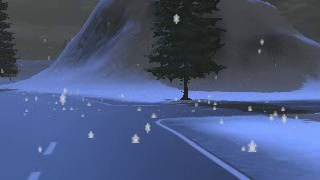Lane: (0, 89, 262, 179)
